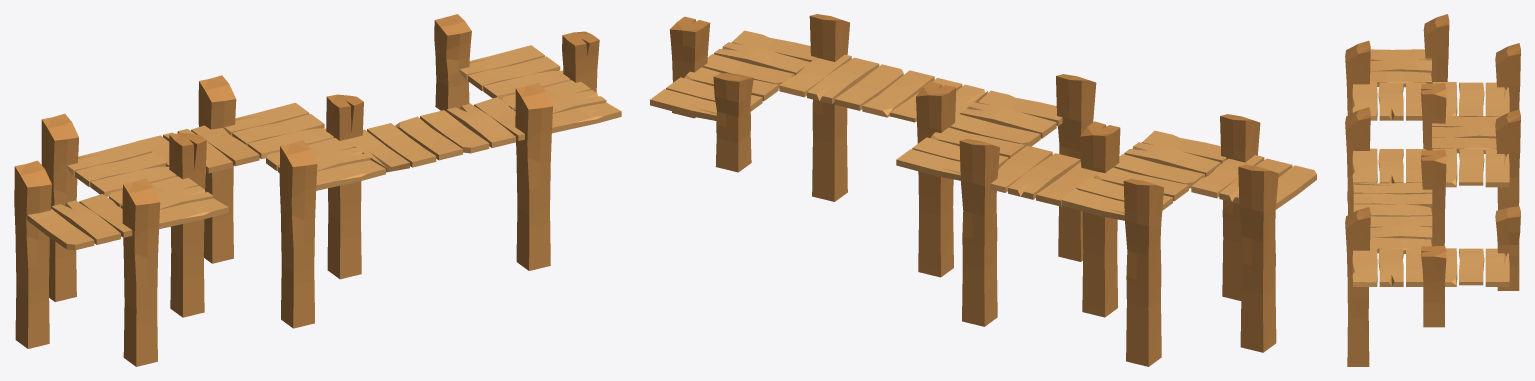
File: m_bg_docks_01.fbx
The picture shows the model from 3 angles, left to right: view 1: azimuth 30°, elevation 25°; view 2: azimuth 150°, elevation 25°; view 3: azimuth 270°, elevation 25°; orthographic projection. The views are drawn at different scales.
Visible parts, largest first — view 1: m_bg_docks_01; view 2: m_bg_docks_01; view 3: m_bg_docks_01.
Boxes of the visible parts, left/top/right/bottom form: m_bg_docks_01: left=14, top=14, right=621, bottom=366; m_bg_docks_01: left=650, top=14, right=1316, bottom=366; m_bg_docks_01: left=1345, top=14, right=1520, bottom=366.
Size of the model in its own units: 3631 by 1107 by 1118.
